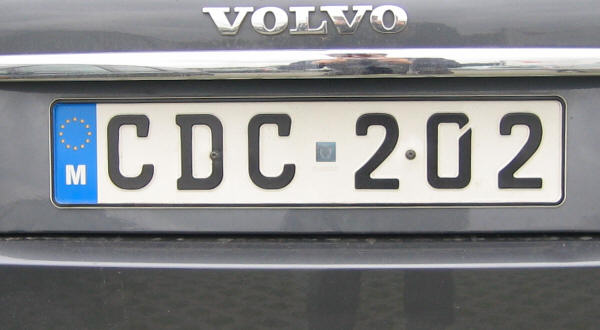license_plate: (49, 96, 567, 206)
